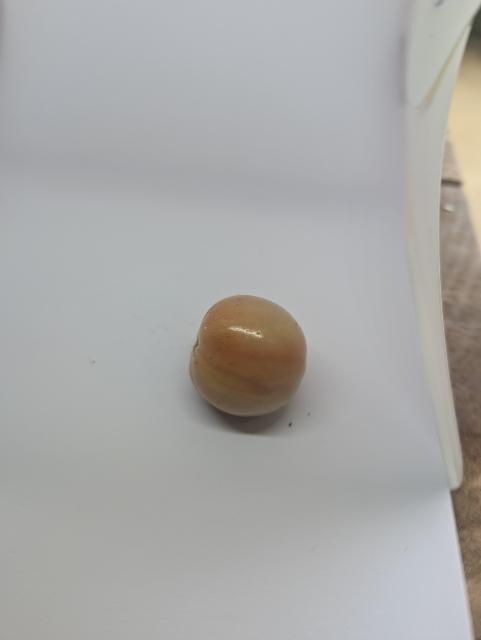turning: (176, 288, 316, 427)
